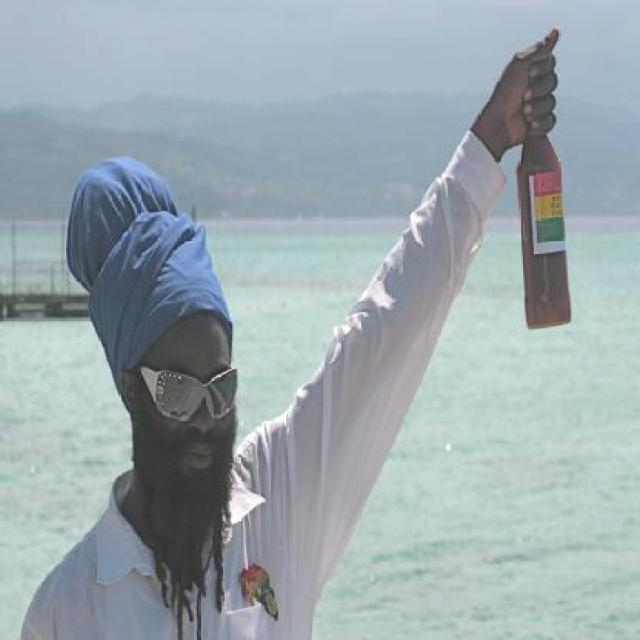face_nomask: (148, 364, 242, 490)
glasses: (137, 368, 240, 422)
hand_noglove: (464, 24, 561, 144)
head_nohelmet: (98, 260, 245, 362)
person: (8, 154, 340, 640)
